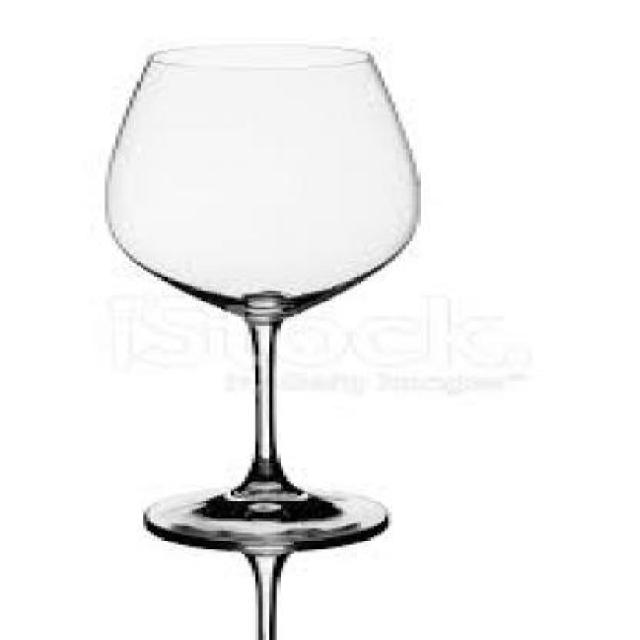kaca: (101, 44, 412, 544)
